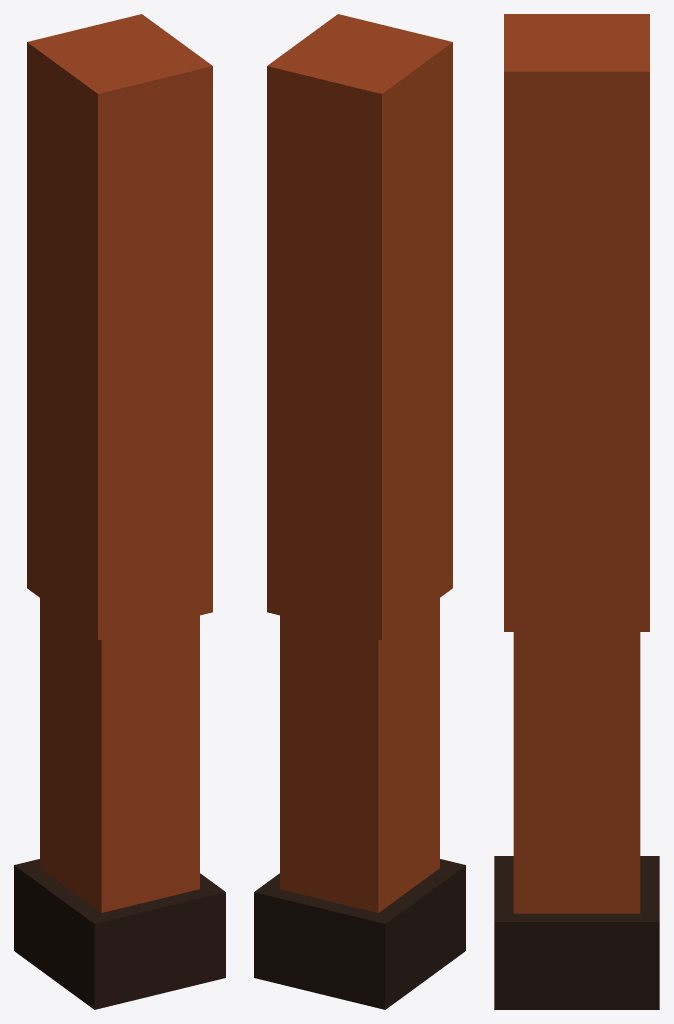
File: carreta_leg_alazan.obj
3 renders of one model, left to right at view 1: azimuth 30°, elevation 25°; view 2: azimuth 150°, elevation 25°; view 3: azimuth 270°, elevation 25°, orthographic. The views are drawn at different scales.
Parts seen in each view (by area): view 1: carreta_leg_alazan; view 2: carreta_leg_alazan; view 3: carreta_leg_alazan.
Boxes of the visible parts, x1,y1,x2,y2 form: carreta_leg_alazan: [14, 14, 225, 1009]; carreta_leg_alazan: [254, 14, 465, 1009]; carreta_leg_alazan: [494, 14, 659, 1009].
Size of the model in its own units: 0.16 by 1.06 by 0.17.
